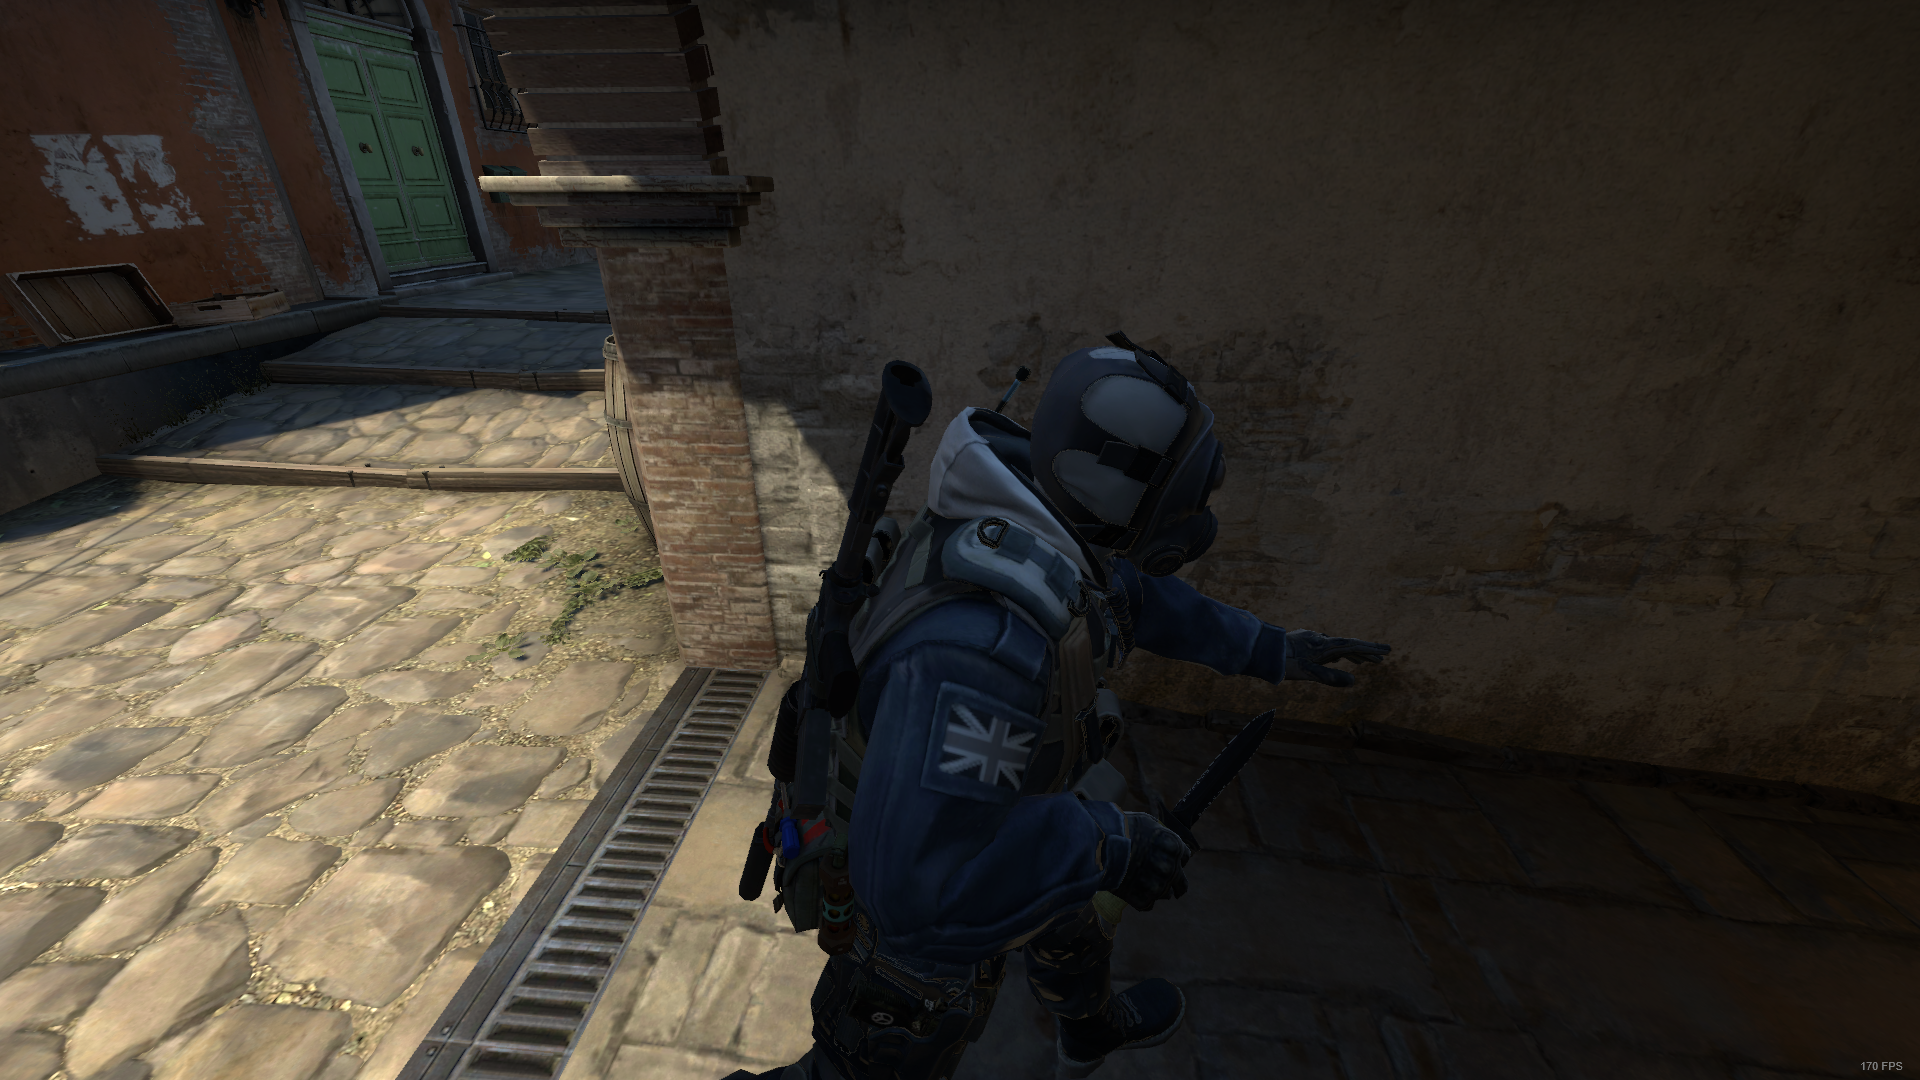ct: (717, 335, 1414, 1080)
